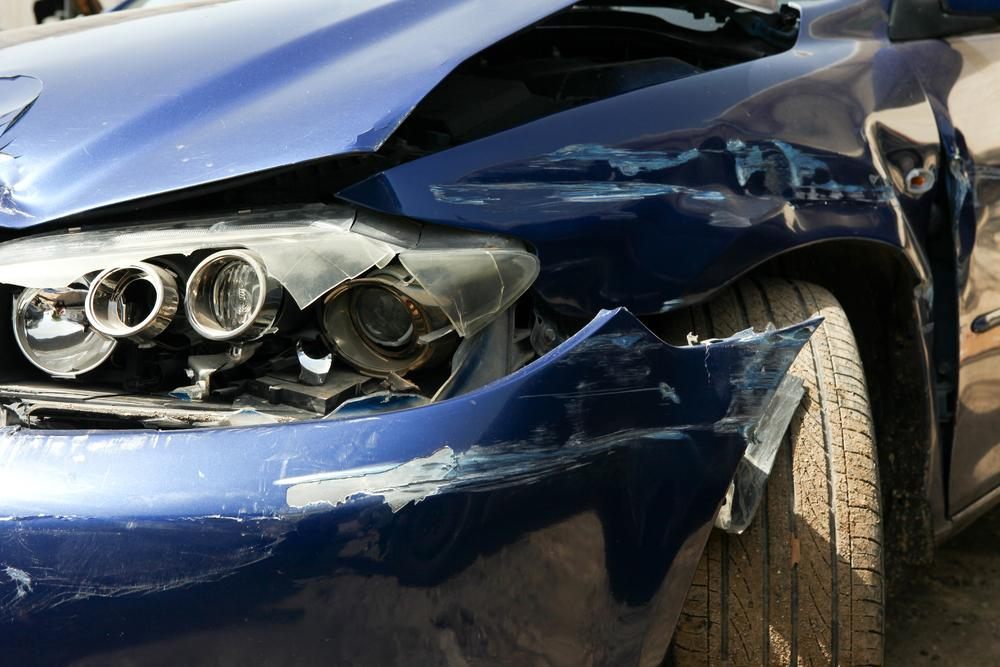dent: (433, 81, 902, 229)
lamp broken: (0, 205, 543, 432)
scratch: (277, 322, 813, 518), (0, 505, 305, 616)
